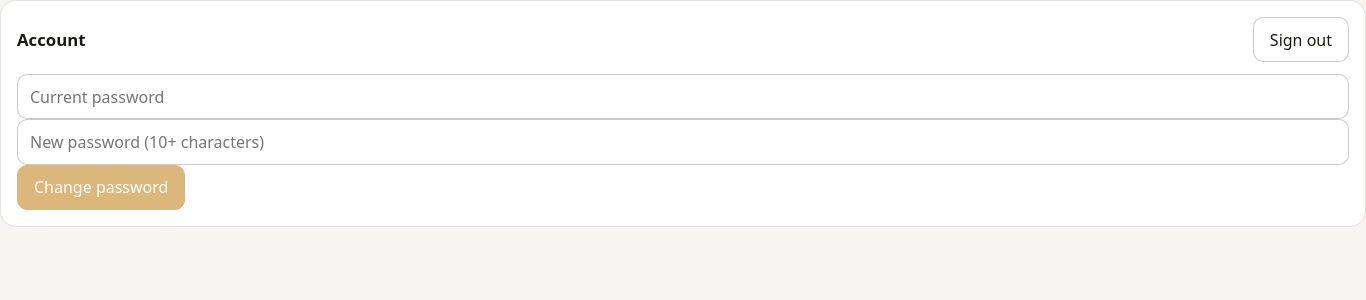
AccountCard (I5) › changes the password and swaps in the fresh token
Type "oldpassword" into the password field with test id "current-password".
click(683, 97); type("oldpassword")  # box [17,74,1349,119]
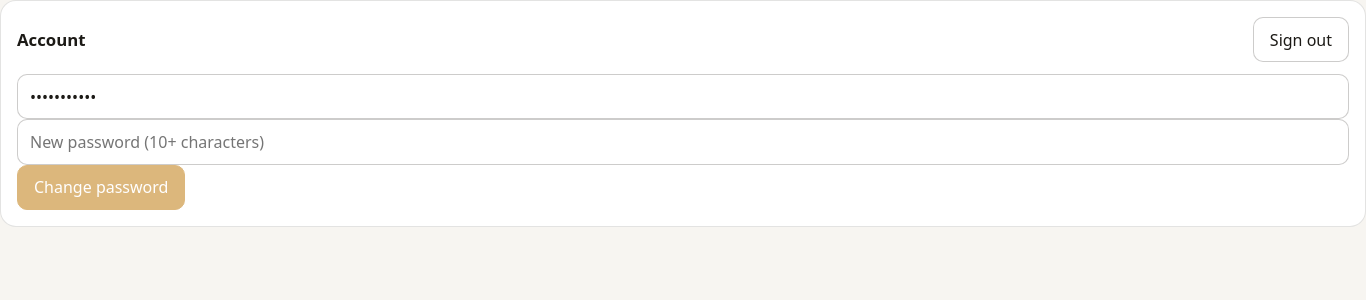
Type "newpassword1" into the password field with test id "new-password".
click(683, 142); type("newpassword1")  # box [17,119,1349,165]
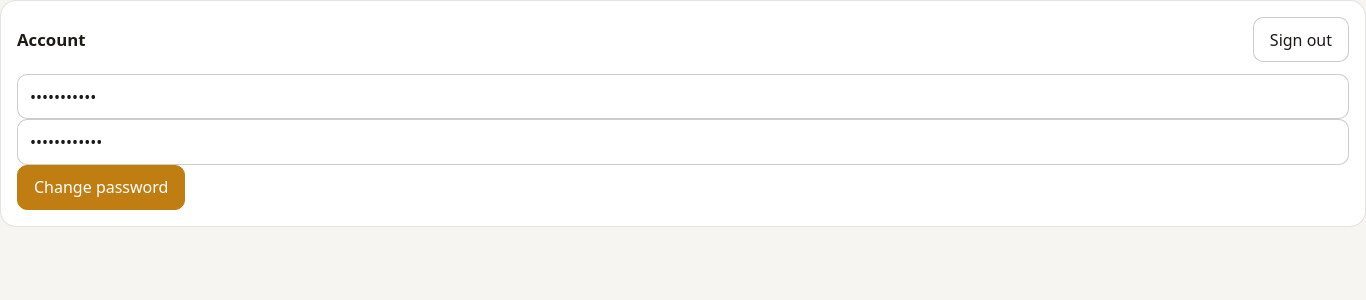
Click the button with test id "change-password".
click(101, 187)  # box [17,165,185,210]
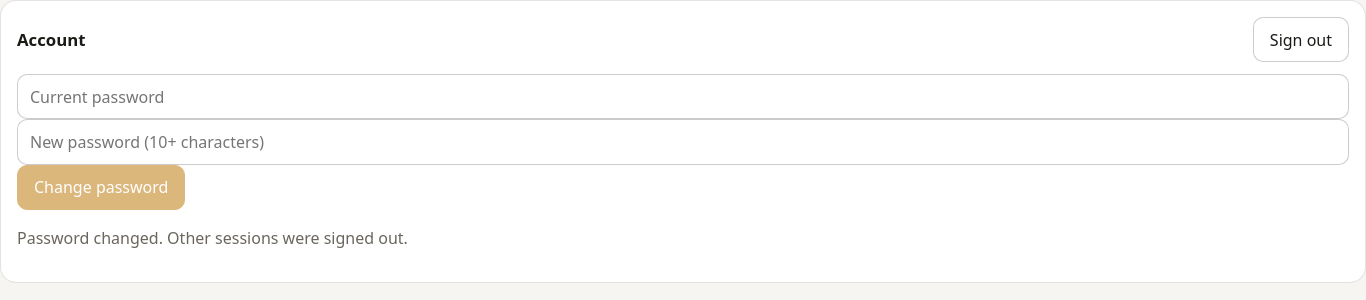
Expected: the text "Password changed. Other sessions were signed out." is shown, [17,227,408,249]
